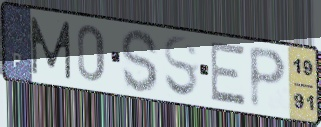0: (75, 22, 107, 86)
E: (209, 39, 248, 109)
M: (28, 14, 74, 82)
P: (248, 43, 290, 112)
S: (119, 27, 160, 95), (161, 34, 201, 101)
